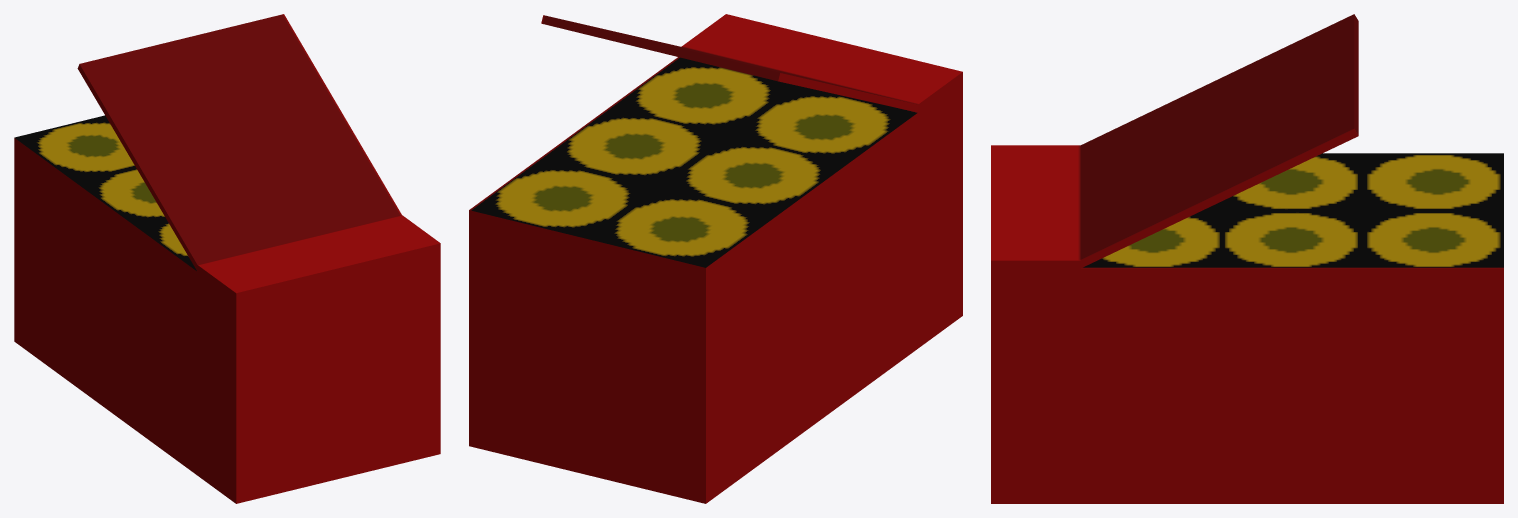
Rendered from ShotgunShellBox.fbx.
The picture shows the model from 3 angles, left to right: view 1: azimuth 30°, elevation 25°; view 2: azimuth 150°, elevation 25°; view 3: azimuth 270°, elevation 25°; orthographic projection. The views are drawn at different scales.
Parts seen in each view (by area): view 1: Cube; view 2: Cube; view 3: Cube.
Part boxes in pixels (left/top/right/bottom): Cube: left=14, top=14, right=440, bottom=503; Cube: left=469, top=14, right=962, bottom=503; Cube: left=991, top=14, right=1503, bottom=503.
Size of the model in its own units: 67.22 by 102 by 126.
